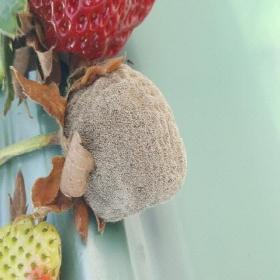Gray Mold: (11, 50, 189, 247)
